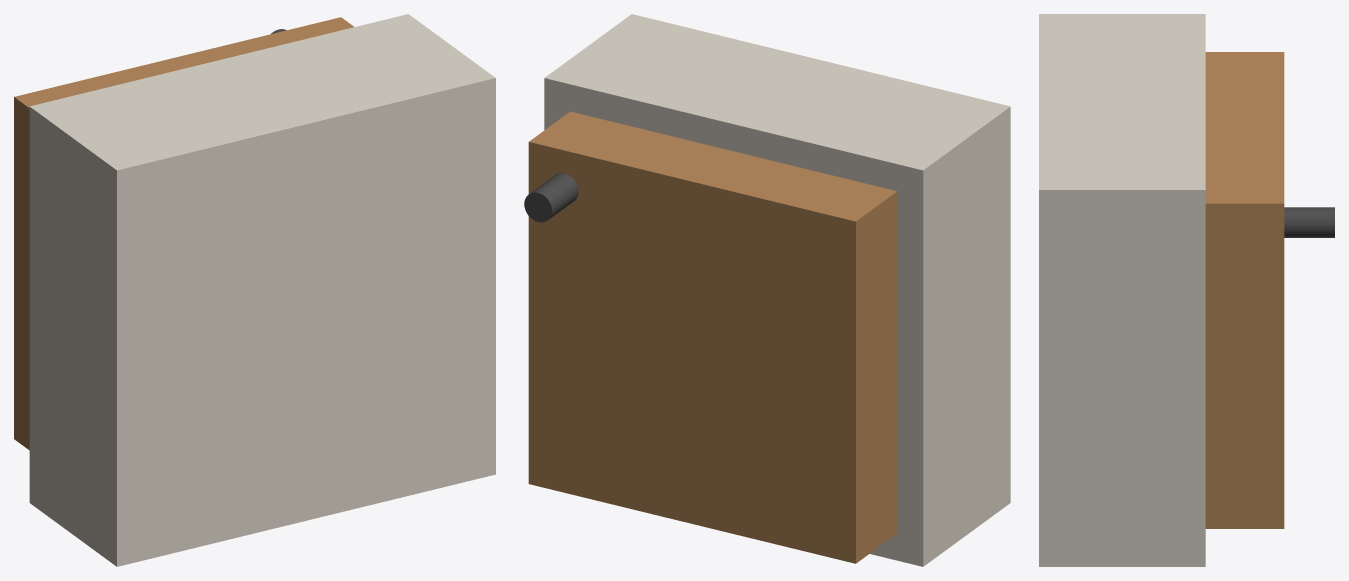
The model's file is poufottoman.glb.
3 views of the same model, side by side, from view 1: azimuth 30°, elevation 25°; view 2: azimuth 150°, elevation 25°; view 3: azimuth 270°, elevation 25° (orthographic). The views are drawn at different scales.
Visible parts, largest first — view 1: Cushion, Base; view 2: Base, Cushion, Leg; view 3: Cushion, Base, Leg.
Part boxes in pixels (x1=…): Cushion: x1=29, y1=14, x2=495, y2=566; Base: x1=14, y1=17, x2=353, y2=450; Base: x1=528, y1=111, x2=897, y2=563; Cushion: x1=544, y1=14, x2=1010, y2=566; Leg: x1=524, y1=173, x2=578, y2=222; Cushion: x1=1039, y1=14, x2=1205, y2=566; Base: x1=1205, y1=52, x2=1284, y2=528; Leg: x1=1284, y1=207, x2=1334, y2=237.
Size of the model in its own units: 0.95 by 0.95 by 0.675.
